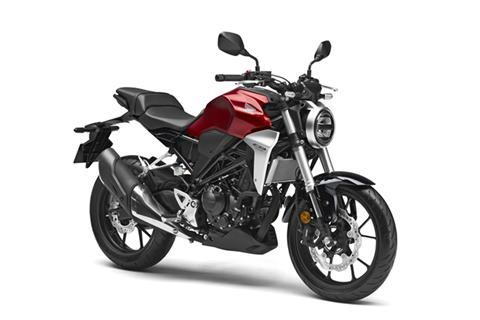motorcycle: (79, 69, 396, 303)
